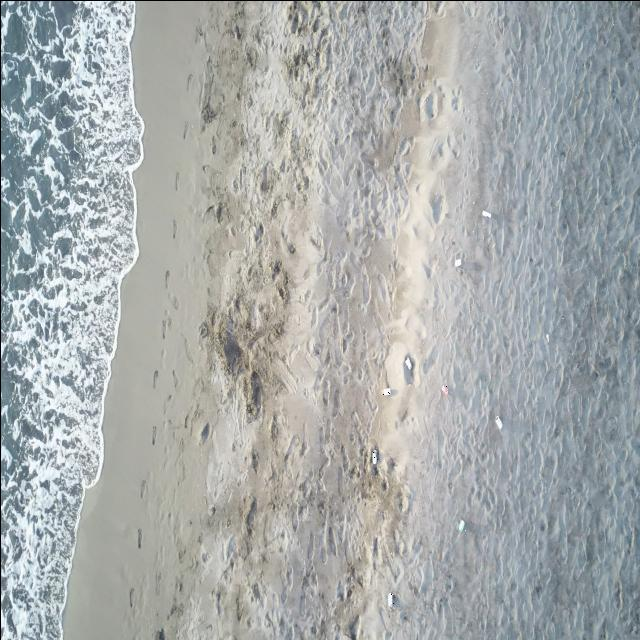Garbage: (404, 353, 413, 384), (495, 415, 502, 428), (404, 356, 411, 369), (387, 592, 393, 607), (457, 520, 464, 532), (482, 209, 491, 218), (371, 448, 376, 464), (440, 384, 447, 395), (453, 258, 460, 267), (382, 388, 391, 395), (544, 332, 547, 342)
